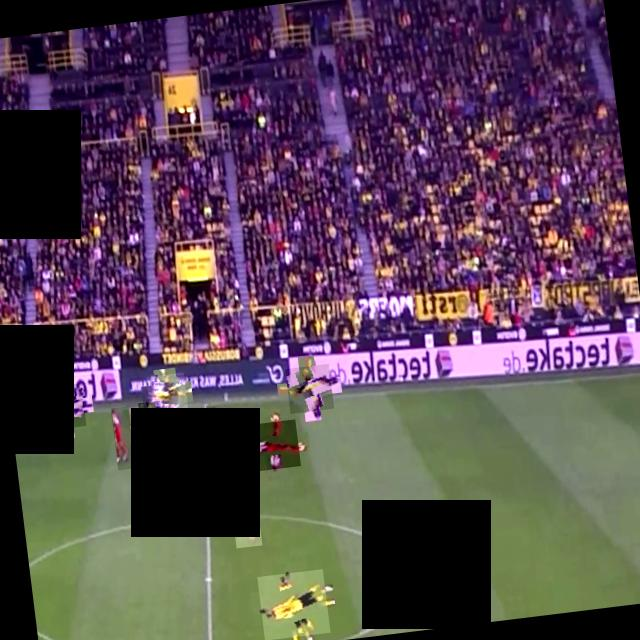ball: (202, 406, 215, 420)
soccer-player: (256, 568, 329, 640), (224, 458, 260, 548), (247, 418, 300, 470), (284, 362, 332, 412), (37, 382, 85, 429), (136, 400, 166, 464), (144, 372, 187, 414), (110, 405, 134, 469)
